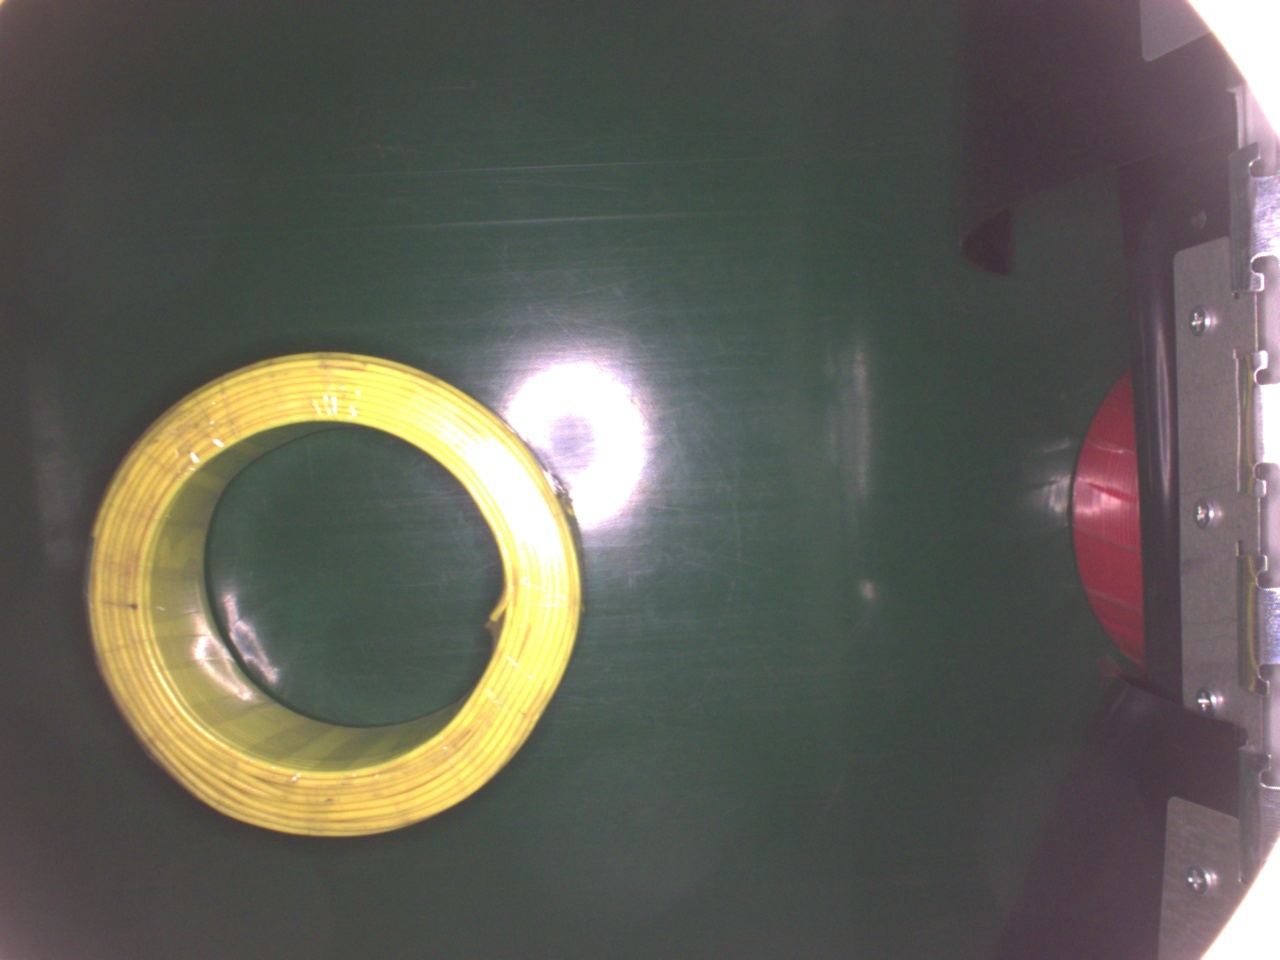yellow: (82, 347, 581, 841)
